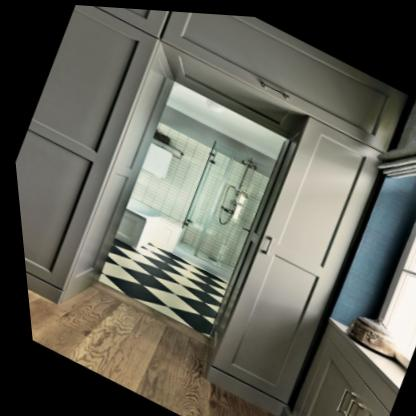Ceramic floor: (94, 236, 221, 335)
Wooden floor: (22, 285, 269, 416)
